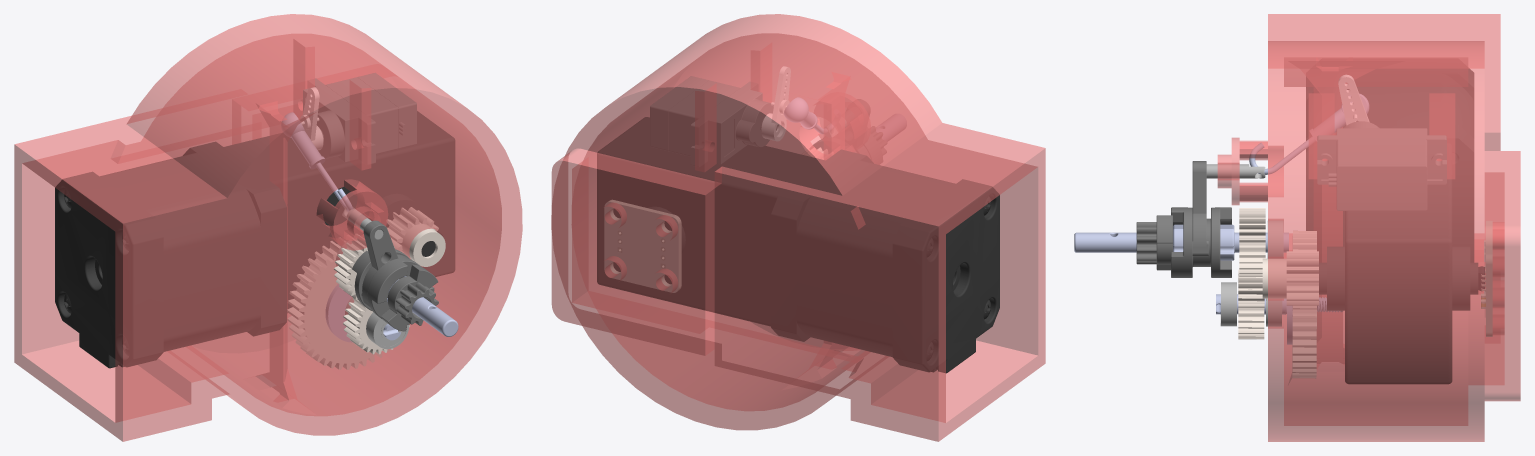
Rendered from hankKneeTransparent.glb.
3 renders of one model, left to right at view 1: azimuth 30°, elevation 25°; view 2: azimuth 150°, elevation 25°; view 3: azimuth 270°, elevation 25°, orthographic. The views are drawn at different scales.
Parts seen in each view (by area): view 1: Knee Hub-3, Rough Hub Motor Assembly-1, microservoSG90-1, spur gear_am-3, spur gear_am-4, Dog Clutch 1-1, Dog Clutch 2-1, Dog Clutch 4-1, microservoArmJoint-1, spur gear_am-5, spur gear_am-1, Dog Clutch 3-1 (+3 smaller); view 2: Knee Hub-3, Rough Hub Motor Assembly-1, microservoSG90-1, AS5600 Magnetic Encoder-1, microservoArm-1, microservoArmJoint-1; view 3: Knee Hub-3, Rough Hub Motor Assembly-1, microservoSG90-1, spur gear_am-4, Dog Clutch 2-1, Dog Clutch 3-1, Dog Clutch 4-1, spur gear_am-3, spur gear_am-1, Dog Clutch 1-1, spur gear_am-5, AS5600 Magnetic Encoder-1 (+5 smaller).
Boxes of the visible parts, box(x1,y1,x2,y2) form: Knee Hub-3: box(14, 14, 522, 441); Rough Hub Motor Assembly-1: box(55, 111, 454, 368); microservoSG90-1: box(303, 73, 416, 163); spur gear_am-3: box(287, 241, 389, 369); spur gear_am-4: box(387, 207, 445, 266); Dog Clutch 1-1: box(380, 264, 438, 331); Dog Clutch 2-1: box(352, 249, 434, 324); Dog Clutch 4-1: box(342, 207, 408, 306); microservoArmJoint-1: box(282, 112, 352, 211); spur gear_am-5: box(343, 298, 409, 354); spur gear_am-1: box(334, 235, 394, 299); Dog Clutch 3-1: box(387, 276, 458, 336); Knee Hub-3: box(551, 14, 1045, 441); Rough Hub Motor Assembly-1: box(597, 117, 999, 373); microservoSG90-1: box(650, 76, 777, 165); AS5600 Magnetic Encoder-1: box(604, 200, 681, 292); microservoArm-1: box(761, 66, 790, 141); microservoArmJoint-1: box(784, 97, 823, 133); Knee Hub-3: box(1217, 14, 1520, 441); Rough Hub Motor Assembly-1: box(1306, 68, 1477, 383); microservoSG90-1: box(1317, 121, 1446, 210); spur gear_am-4: box(1262, 251, 1318, 305); Dog Clutch 2-1: box(1171, 207, 1231, 277); Dog Clutch 3-1: box(1074, 224, 1288, 260); Dog Clutch 4-1: box(1192, 161, 1265, 256); spur gear_am-3: box(1292, 231, 1316, 378); spur gear_am-1: box(1239, 208, 1265, 276); Dog Clutch 1-1: box(1136, 215, 1172, 270); spur gear_am-5: box(1238, 269, 1264, 339); AS5600 Magnetic Encoder-1: box(1478, 221, 1492, 336).
Bounding box in the file's own units: 0.1234 × 0.0999 × 0.1112.
